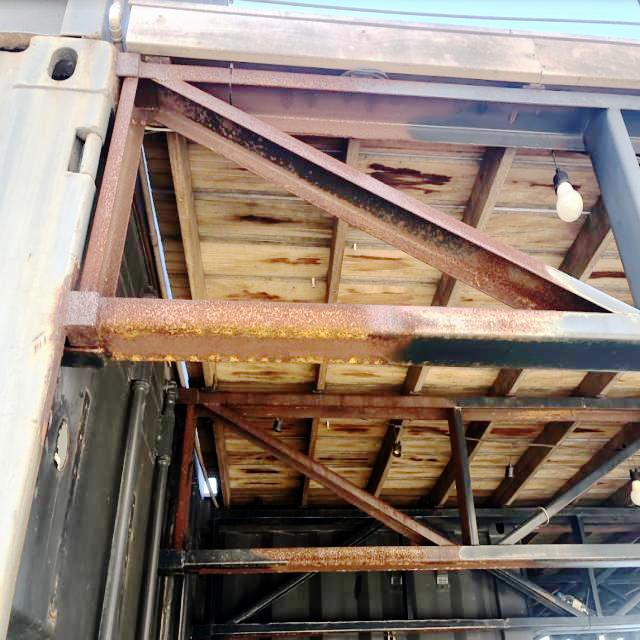Corrosion: (38, 53, 571, 443), (174, 387, 544, 576), (463, 407, 627, 422), (31, 332, 46, 354)
